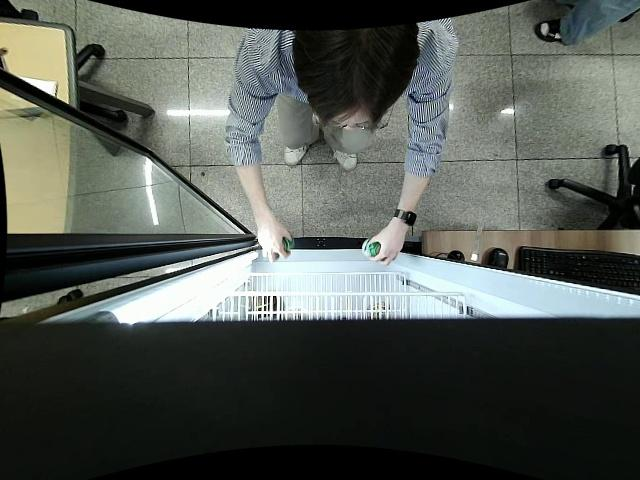00_hand: (255, 215, 293, 262), (365, 230, 406, 267)
12_chilsungCider: (272, 235, 294, 262), (360, 238, 385, 261)
